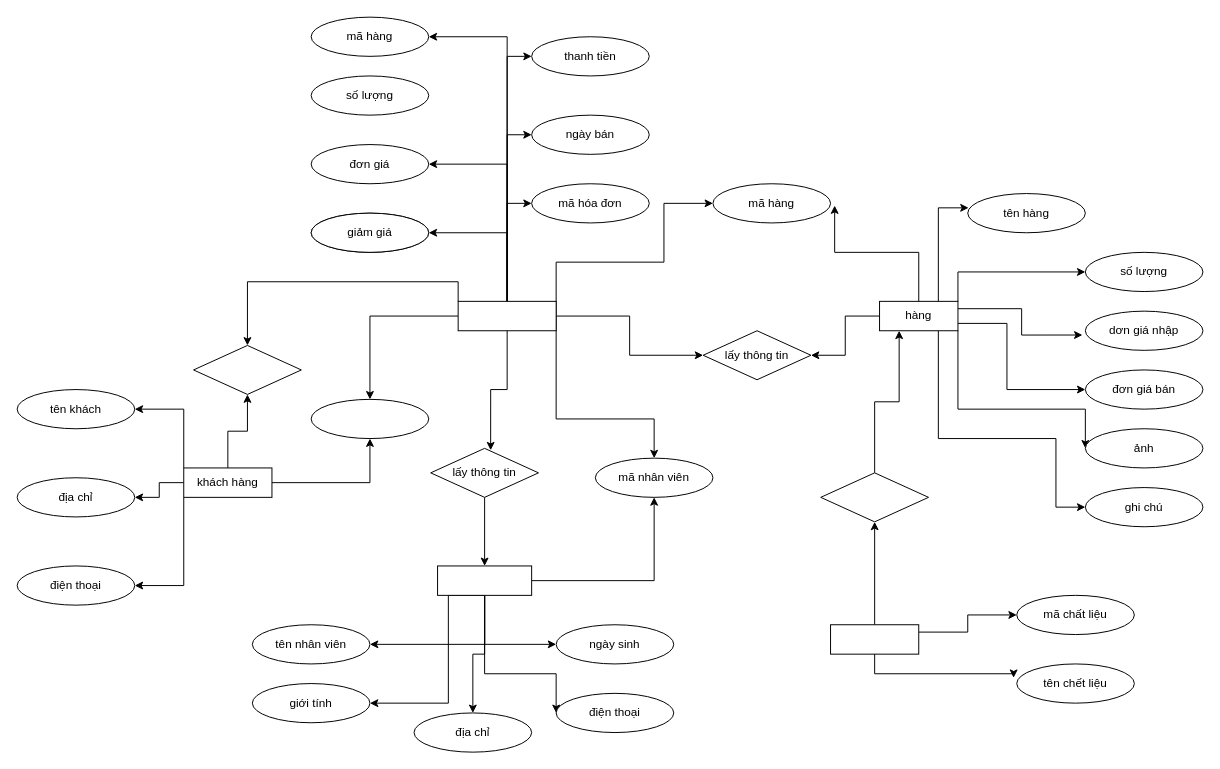
The diagram is 1220 pixels wide and 769 high, and some of its shapes have lost their labels. Each missing label, with the centre of its shape:
"hóa đơn" belongs at (506,315).
"mã khách" belongs at (369,418).
"nguyên liệu" belongs at (874,639).
"nhân viên" belongs at (484,580).
"nhận" belongs at (247,369).
"tổng hợp" belongs at (874,497).
